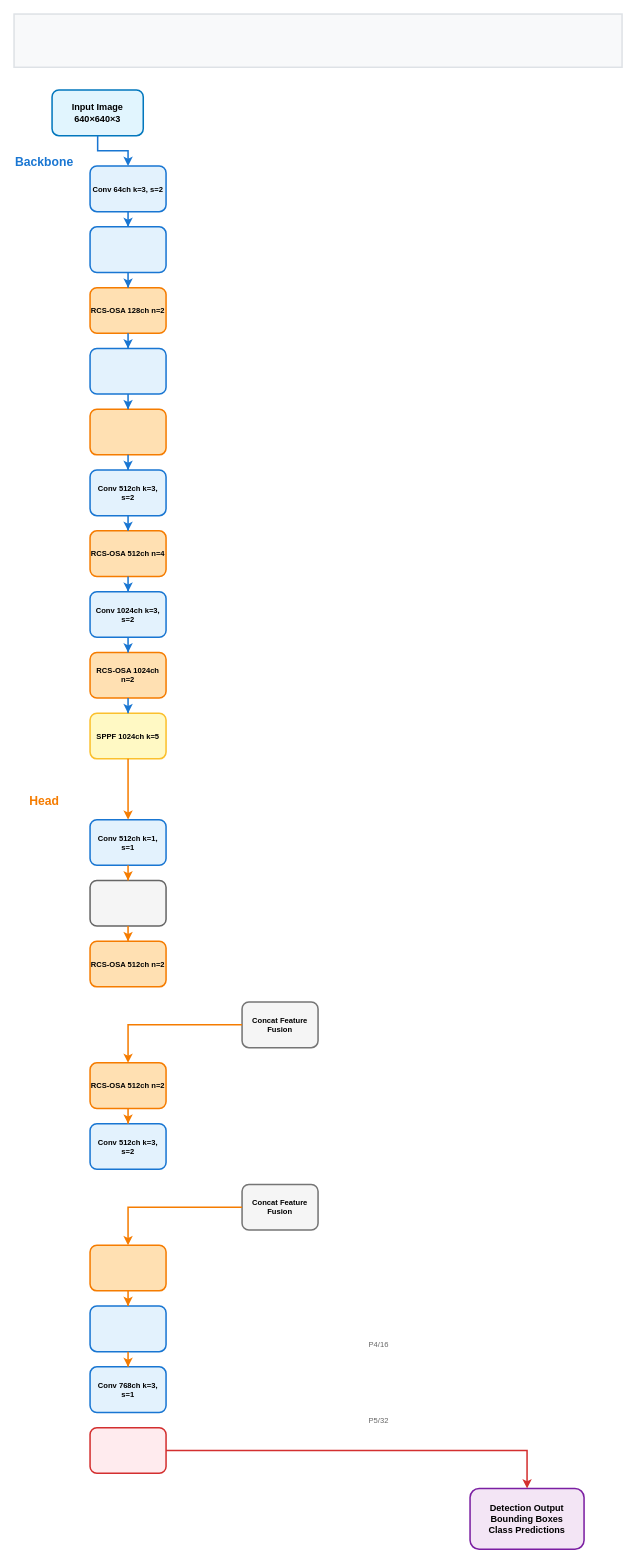
The diagram is 635 pixels wide and 1563 high, and some of its shapes have lost their labels. Here are the shapes that lost their labels. From the top down, the centre of each, then its label:
(x=317, y=40): YOLOv4-RCSOSA RCS-OSA Residual Cross Stage + Standard Conv
(x=127, y=249): Conv 128ch k=3, s=2
(x=127, y=370): Conv 256ch k=3, s=2
(x=127, y=431): RCS-OSA 256ch n=2
(x=127, y=902): Upsample ×2
(x=127, y=1267): RCS-OSA 768ch n=2
(x=127, y=1328): Conv 512ch k=3, s=1
(x=127, y=1450): IDetect Classes: nc
